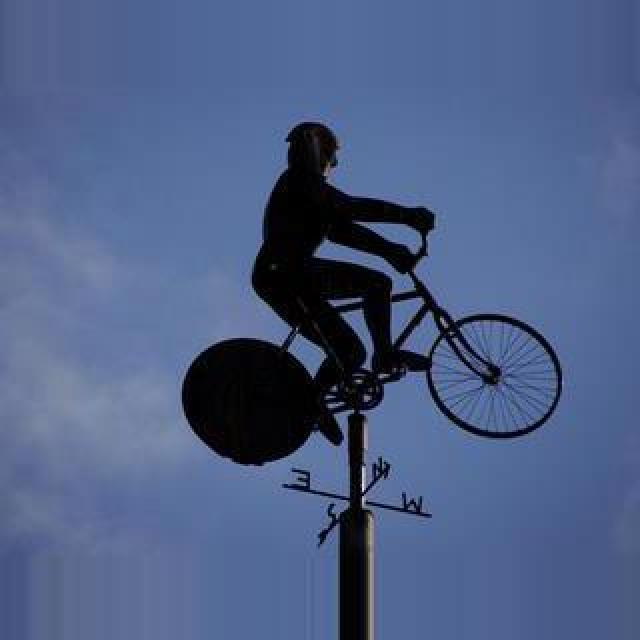MC-Bike: (250, 122, 436, 412)
Person: (184, 245, 558, 461)
